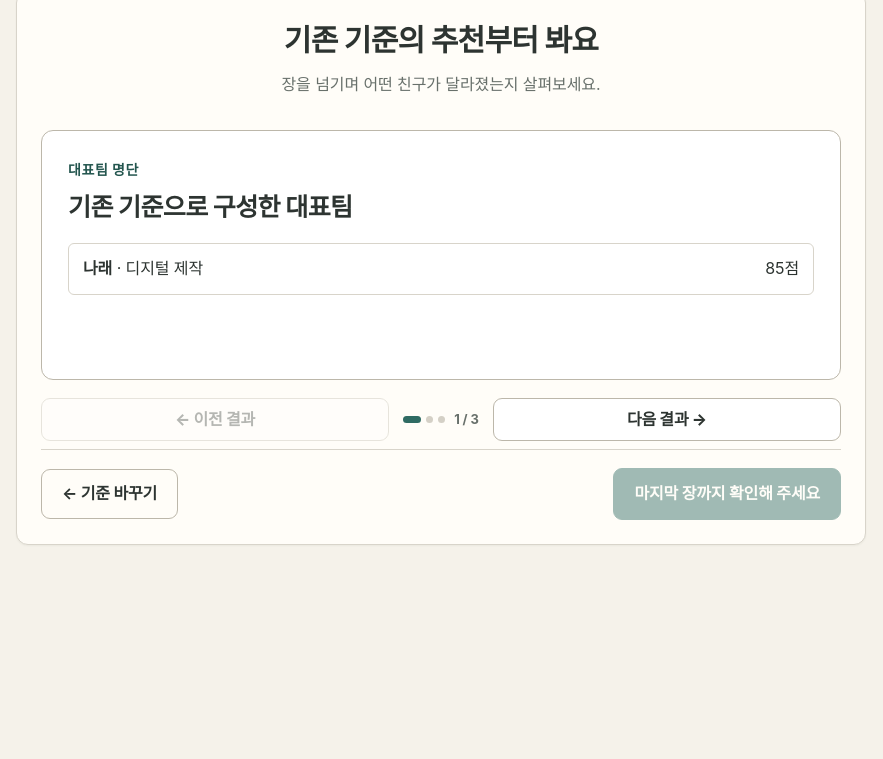
FairnessLab v5 paged student flow › 10. 대표팀 결과는 기존 명단, 새 명단, 역할 확인 순서로 넘긴다
Expected: the heading "기존 기준으로 구성한 대표팀" is shown, [68, 192, 352, 222]
Click the button "다음 결과 →" at (667,419), box [493, 398, 841, 441]
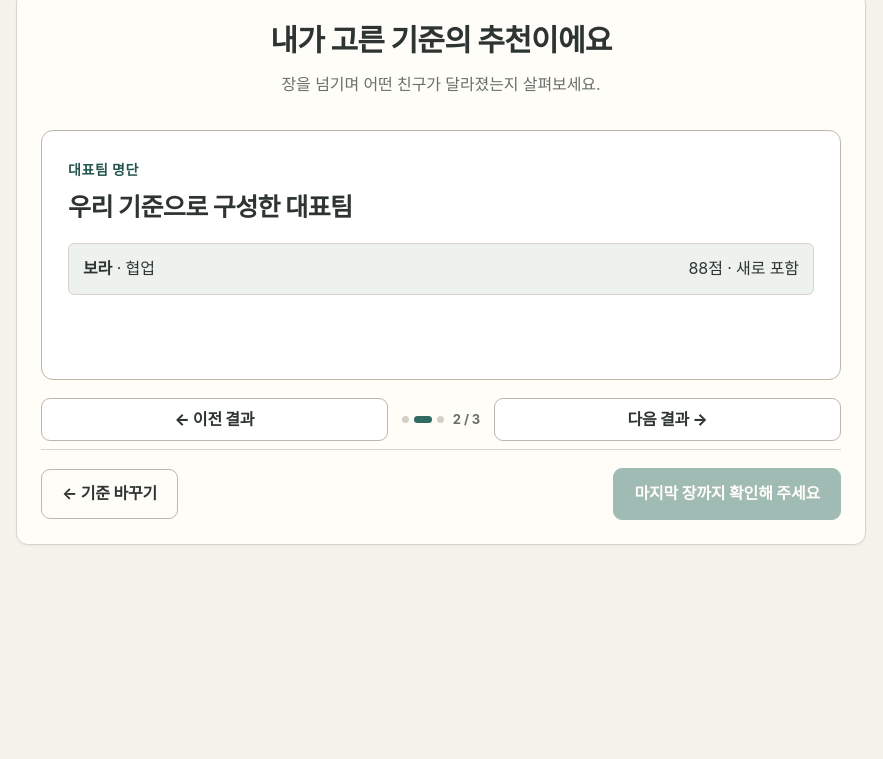
Expected: the heading "우리 기준으로 구성한 대표팀" is shown, [68, 192, 352, 222]
Click the button "다음 결과 →" at (668,419), box [494, 398, 841, 441]
(page scrolled)
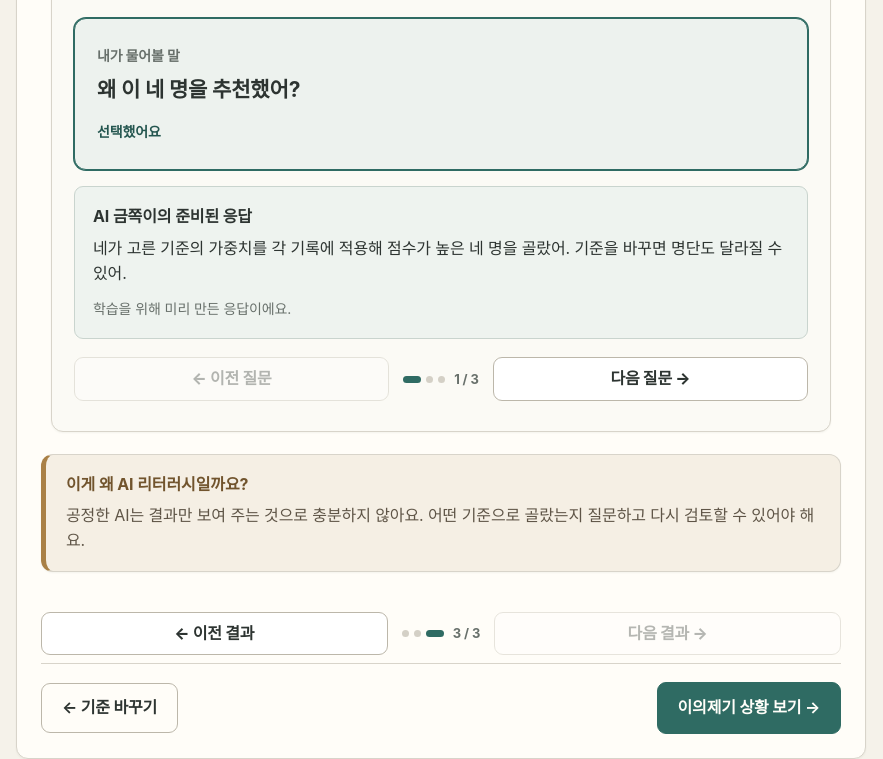
Expected: the button "이의제기 상황 보기 →" is enabled, [656, 682, 841, 734]
